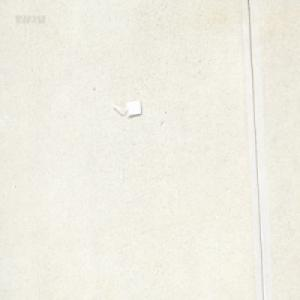LuggageTag: (110, 98, 142, 116)
